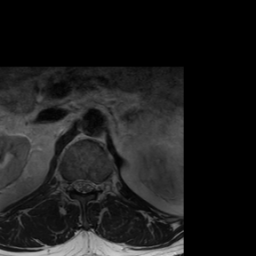CCS_normal: (79, 171, 87, 200)
LFS_normal: (95, 175, 101, 196)
LLS_normal: (87, 174, 95, 196)
RFS_normal: (65, 171, 72, 196)
RLS_normal: (72, 171, 79, 197)
